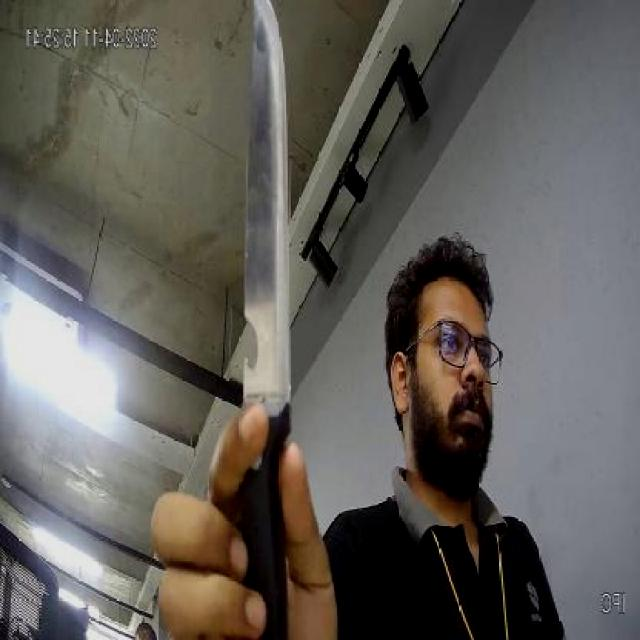knife: (211, 0, 315, 503)
